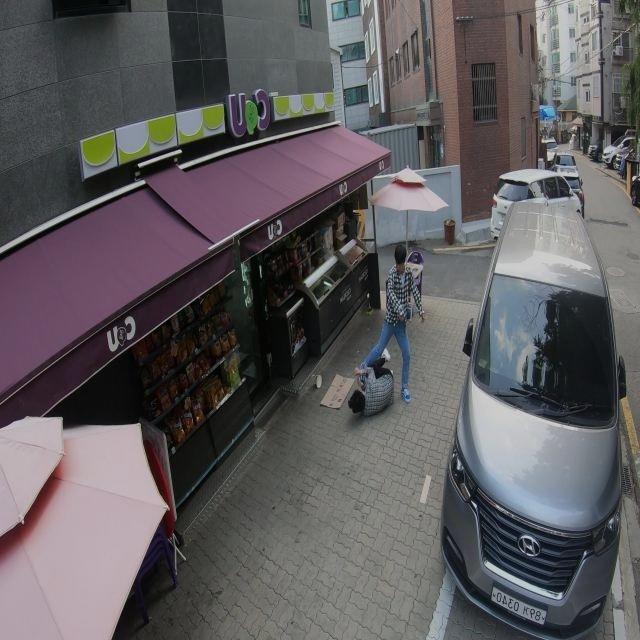fight: (347, 247, 422, 413)
